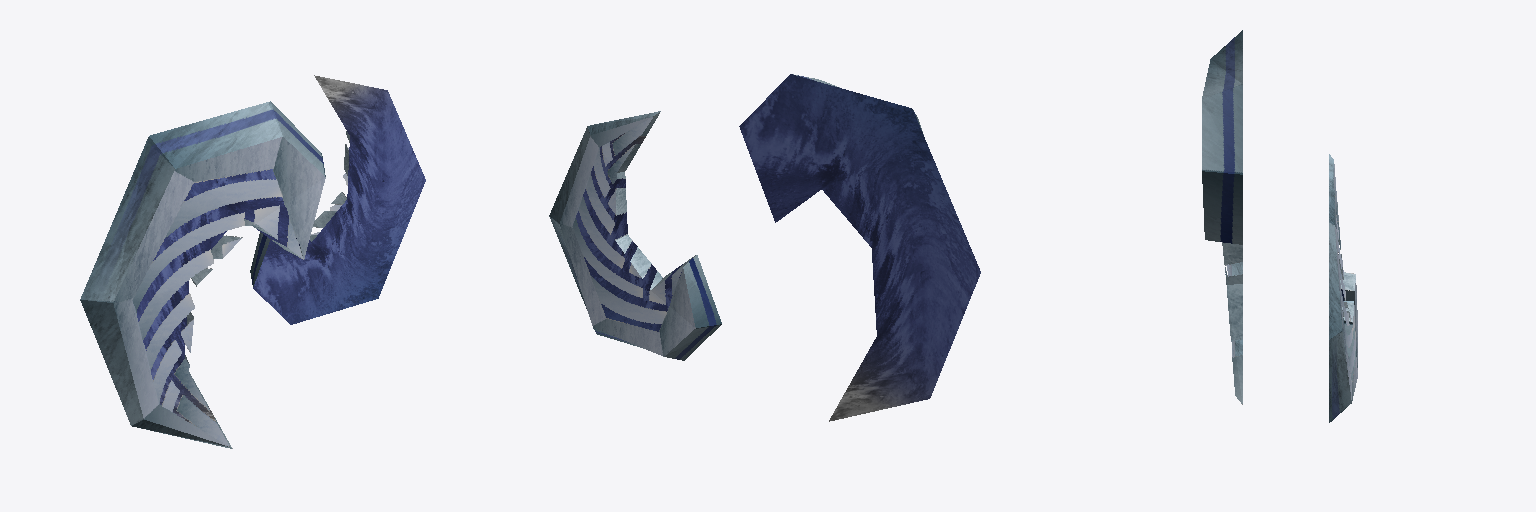
The picture shows the model from 3 angles: view 1: azimuth 30°, elevation 25°; view 2: azimuth 150°, elevation 25°; view 3: azimuth 270°, elevation 25°; orthographic projection.
Parts seen in each view (by area): view 1: wind_3:Mesh; view 2: wind_3:Mesh; view 3: wind_3:Mesh.
Boxes of the visible parts, box(x1,y1,x2,y2) form: wind_3:Mesh: box(80, 75, 425, 448); wind_3:Mesh: box(549, 74, 980, 421); wind_3:Mesh: box(1202, 30, 1357, 422).
Size of the model in its own units: 262 by 218 by 91.29.
1 materials, 1 textured.